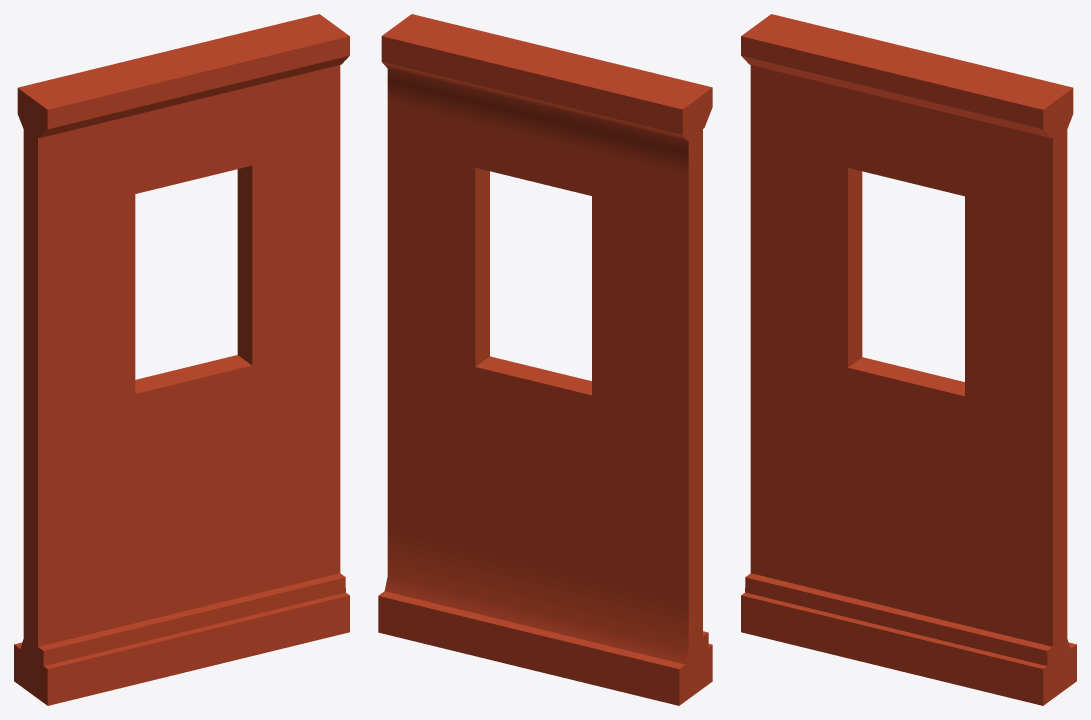
File: TallWall-Window2.FBX
3 renders of one model, left to right at view 1: azimuth 30°, elevation 25°; view 2: azimuth 150°, elevation 25°; view 3: azimuth 330°, elevation 25°, orthographic.
Visible parts, largest first — view 1: TallWall-Window2; view 2: TallWall-Window2; view 3: TallWall-Window2.
Part boxes in pixels (x1,y1,x2,y2): TallWall-Window2: (14, 14, 349, 705); TallWall-Window2: (378, 14, 712, 705); TallWall-Window2: (741, 14, 1076, 705).
Bounding box in the file's own units: 118 × 223 × 22.83.
